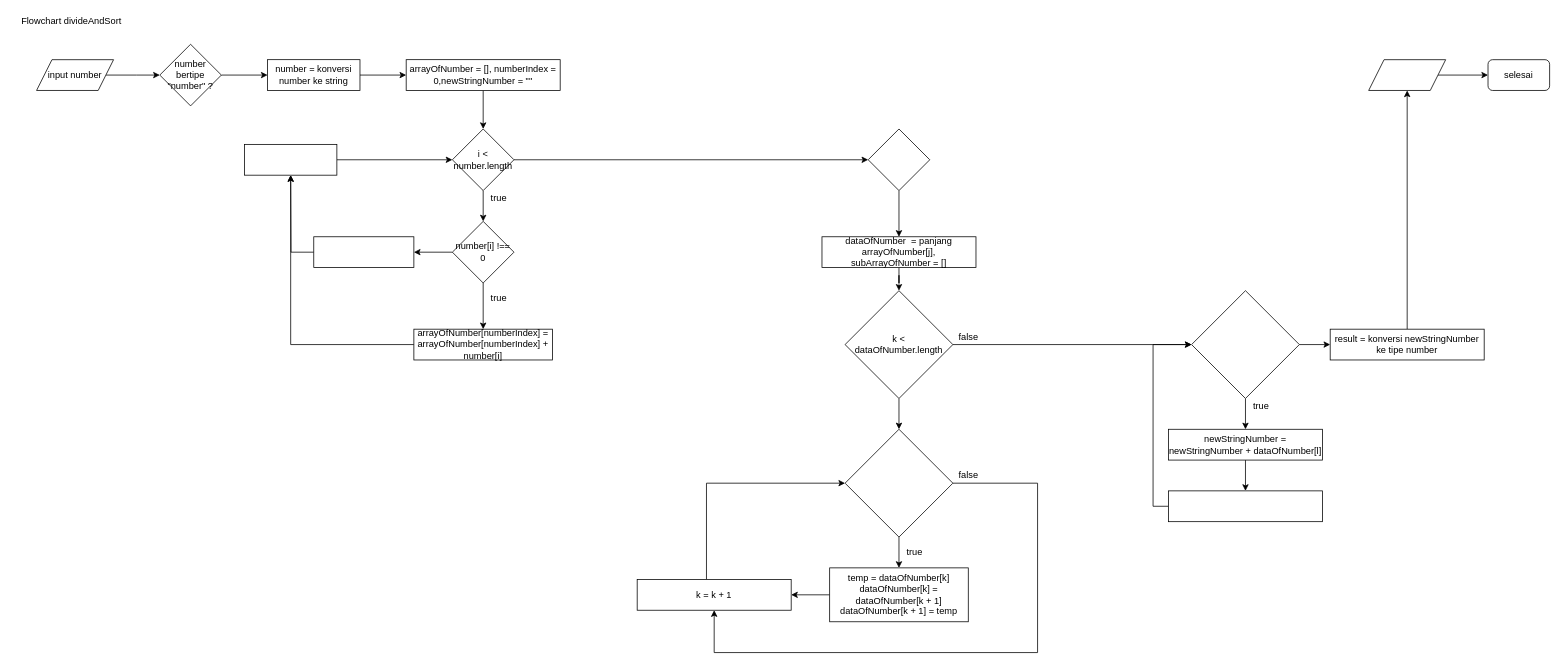
The diagram is 1563 pixels wide and 672 high, and some of its shapes have lost their labels. The box of each missing label's shape, as (x1, y1, x2, y2) in pixels:
cetak result: (1368, 59, 1446, 90)
dataOfNumber[k] > dataOfNumber[k + 1]: (844, 429, 953, 537)
i = i + 1: (244, 144, 337, 175)
j < arrayOfNumber.length: (867, 128, 930, 191)
l < dataOfNumber: (1191, 290, 1299, 398)
l = l + 1: (1168, 490, 1322, 522)
numberIndex = numberIndex + 1: (313, 236, 414, 268)
